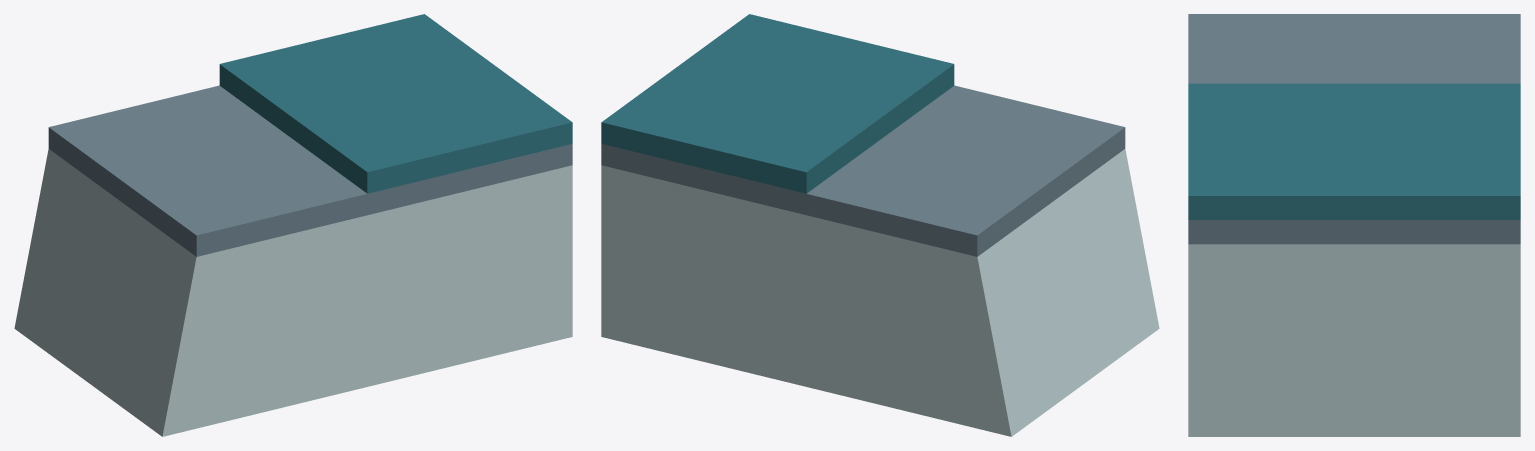
The model's file is Lv2Obsticle3Right.fbx.
3 renders of one model, left to right at view 1: azimuth 30°, elevation 25°; view 2: azimuth 150°, elevation 25°; view 3: azimuth 270°, elevation 25°, orthographic. The views are drawn at different scales.
Visible parts, largest first — view 1: Lv2Obsticle3Right; view 2: Lv2Obsticle3Right; view 3: Lv2Obsticle3Right.
Boxes of the visible parts, x1,y1,x2,y2 form: Lv2Obsticle3Right: (14, 14, 572, 436); Lv2Obsticle3Right: (601, 14, 1159, 436); Lv2Obsticle3Right: (1188, 14, 1520, 436).
Size of the model in its own units: 3200 by 1600 by 2000.
